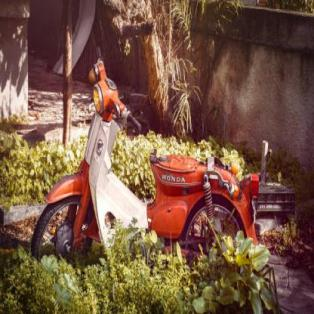Motocicleta: (29, 47, 262, 256)
